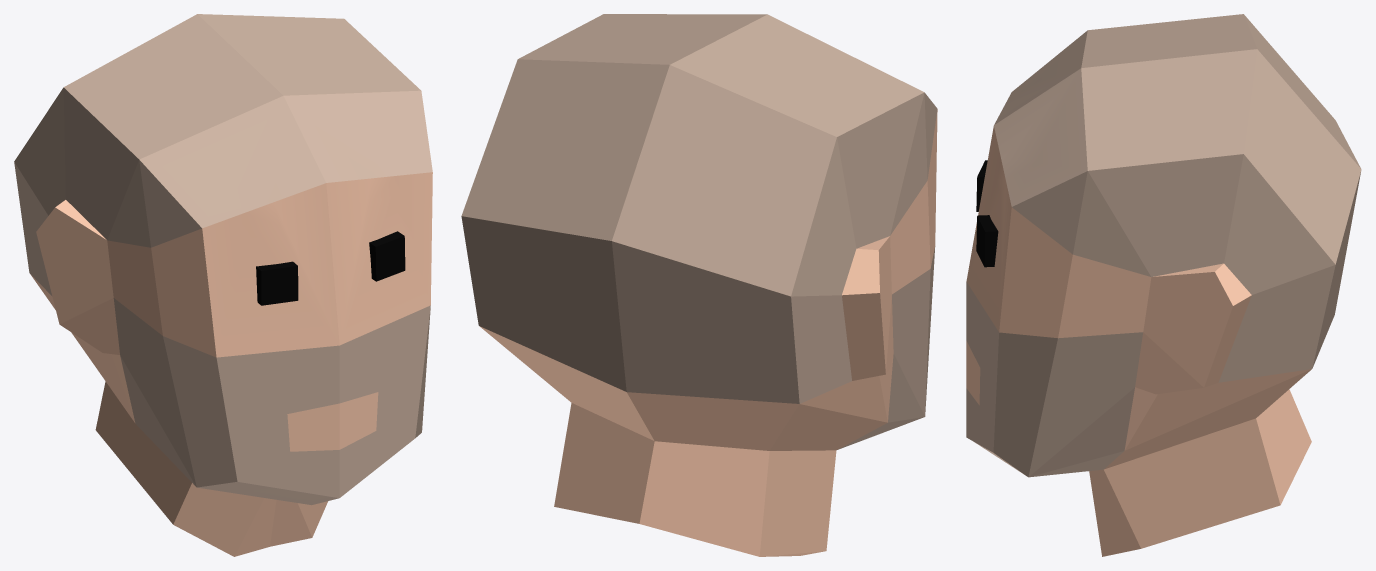
File: Chr_Head_Male_22_Static.fbx
3 views of the same model, side by side, from view 1: azimuth 30°, elevation 25°; view 2: azimuth 150°, elevation 25°; view 3: azimuth 270°, elevation 25° (orthographic). The views are drawn at different scales.
Parts seen in each view (by area): view 1: Chr_Head_Male_22_Static; view 2: Chr_Head_Male_22_Static; view 3: Chr_Head_Male_22_Static.
Boxes of the visible parts, left/top/right/bottom form: Chr_Head_Male_22_Static: left=14, top=14, right=432, bottom=556; Chr_Head_Male_22_Static: left=461, top=14, right=937, bottom=556; Chr_Head_Male_22_Static: left=966, top=14, right=1361, bottom=556.
Bounding box in the file's own units: 0.2661 × 0.3523 × 0.2574.
